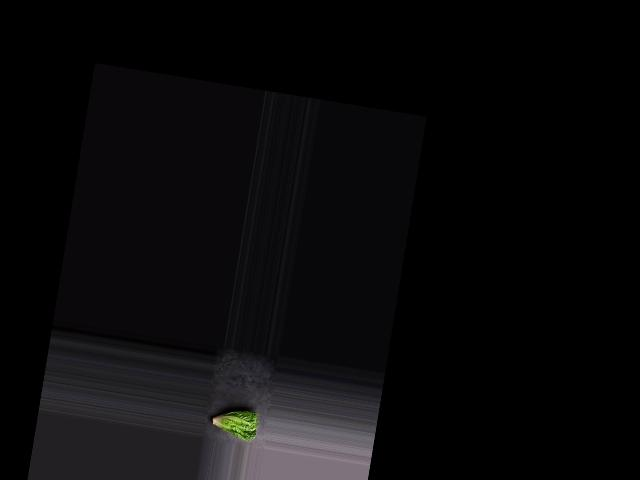lettuce: (206, 403, 260, 443)
